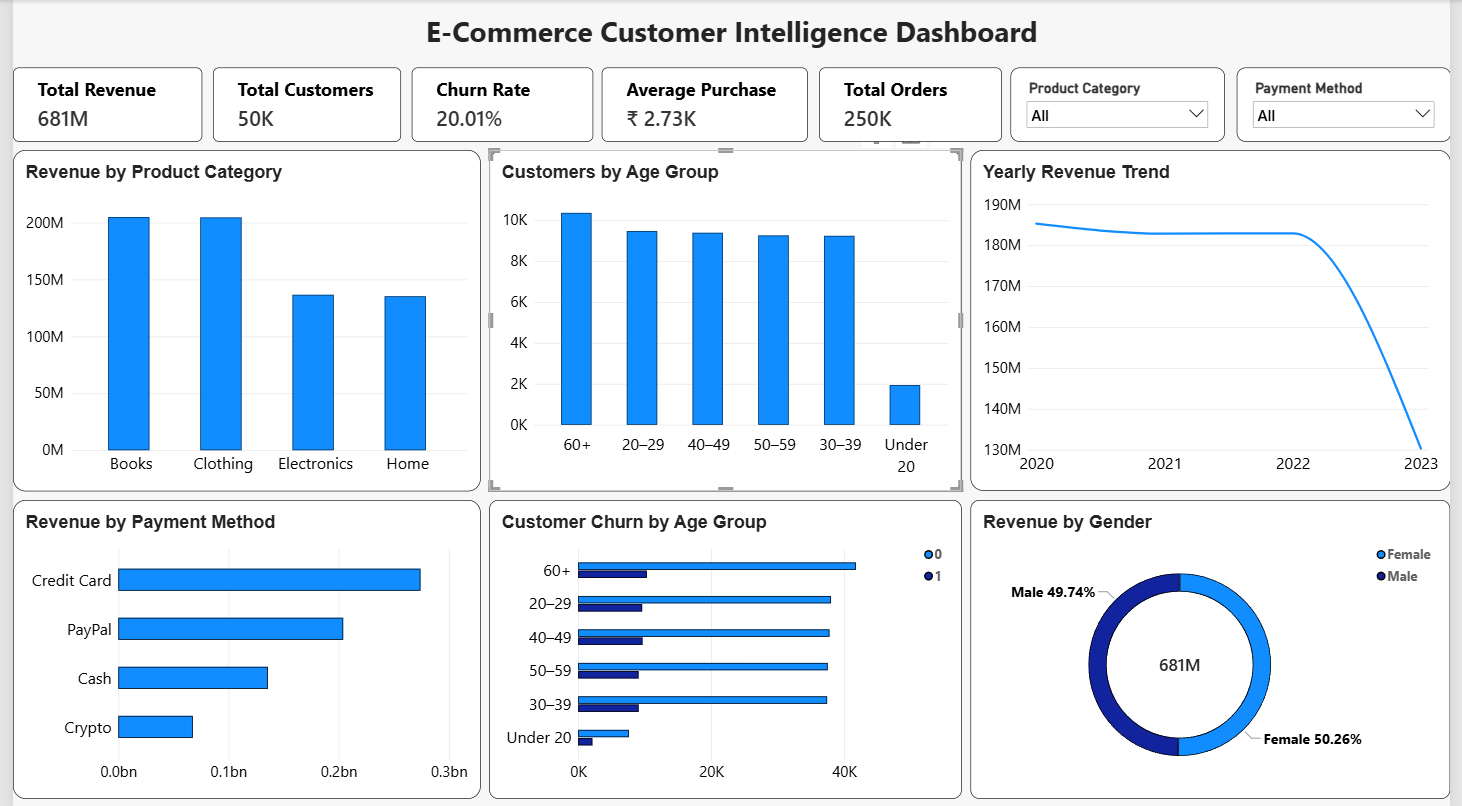

The page's visual inventory and layout, read from the dashboard file:
{"tool":"powerbi","page":{"name":"Page 1","canvas":[1920,1080],"ordinal":0},"visuals":[{"type":"cardVisual","fields":{"Data":["customer_segmentation.Total Revenue"]},"box":[0,90.7,252.9,99.4],"z":0},{"type":"cardVisual","fields":{"Data":["customer_segmentation.Total Customers"]},"box":[266.9,90.7,251.2,99.4],"z":1000},{"type":"cardVisual","fields":{"Data":["customer_segmentation.Average Purchase"]},"box":[786.6,90.7,275.6,99.4],"z":2000},{"type":"cardVisual","fields":{"Data":["customer_segmentation.Churn Rate"]},"box":[532,90.7,242.4,99.4],"z":3000},{"type":"clusteredColumnChart","title":"Revenue by Product Category","fields":{"Category":["cleaned_customer_data.Product Category"],"Y":["Sum(cleaned_customer_data.Total Purchase Amount)"]},"box":[0,200.4,624.5,455.8],"z":4000},{"type":"clusteredBarChart","title":"Revenue by Payment Method","fields":{"Category":["cleaned_customer_data.Payment Method"],"Y":["Sum(cleaned_customer_data.Total Purchase Amount)"]},"box":[0,667.9,624.5,399.1],"z":5000},{"type":"clusteredColumnChart","title":"Customers by Age Group","fields":{"Category":["cleaned_customer_data.Age Group"],"Y":["Count(cleaned_customer_data.Customer ID)"]},"box":[636.2,200.4,631.2,455.8],"z":6000},{"type":"clusteredBarChart","title":"Customer Churn by Age Group","fields":{"Category":["cleaned_customer_data.Age Group"],"Series":["cleaned_customer_data.Churn"],"Y":["CountNonNull(cleaned_customer_data.Customer ID)"]},"box":[636.2,667.9,631.2,399.1],"z":7000},{"type":"lineChart","title":"Yearly Revenue Trend","fields":{"Category":["cleaned_customer_data.Purchase Date.Variation.Date Hierarchy.Year","cleaned_customer_data.Purchase Date.Variation.Date Hierarchy.Month"],"Y":["Sum(cleaned_customer_data.Total Purchase Amount)"]},"box":[1278.5,200.6,641.9,455.2],"z":8000},{"type":"donutChart","title":"Revenue by Gender","fields":{"Category":["cleaned_customer_data.Gender"],"Y":["Sum(cleaned_customer_data.Total Purchase Amount)"]},"box":[1279,667.9,641.2,399.1],"z":9000},{"type":"textbox","box":[0,16.7,1920.2,51.8],"z":10000},{"type":"slicer","fields":{"Values":["cleaned_customer_data.Product Category"]},"box":[1332.6,90.7,286,99.4],"z":11000},{"type":"cardVisual","fields":{"Data":["customer_segmentation.Total Orders"]},"box":[1076.2,90.7,244.2,99.4],"z":12000},{"type":"slicer","fields":{"Values":["cleaned_customer_data.Payment Method"]},"box":[1634.3,90.7,286,99.4],"z":13000}]}

Visuals, with their boxes in screenshot pixels (x1, y1, x2, y2), scaled from the page's 1920x1080 canvas onto the 1462x806 screenshot:
cardVisual - customer_segmentation.Total Revenue: (left=0, top=68, right=193, bottom=142)
cardVisual - customer_segmentation.Total Customers: (left=203, top=68, right=395, bottom=142)
cardVisual - customer_segmentation.Average Purchase: (left=599, top=68, right=809, bottom=142)
cardVisual - customer_segmentation.Churn Rate: (left=405, top=68, right=590, bottom=142)
"Revenue by Product Category" clusteredColumnChart: (left=0, top=150, right=476, bottom=490)
"Revenue by Payment Method" clusteredBarChart: (left=0, top=498, right=476, bottom=796)
"Customers by Age Group" clusteredColumnChart: (left=484, top=150, right=965, bottom=490)
"Customer Churn by Age Group" clusteredBarChart: (left=484, top=498, right=965, bottom=796)
"Yearly Revenue Trend" lineChart: (left=974, top=150, right=1461, bottom=489)
"Revenue by Gender" donutChart: (left=974, top=498, right=1461, bottom=796)
textbox: (left=0, top=12, right=1461, bottom=51)
slicer - cleaned_customer_data.Product Category: (left=1015, top=68, right=1232, bottom=142)
cardVisual - customer_segmentation.Total Orders: (left=819, top=68, right=1005, bottom=142)
slicer - cleaned_customer_data.Payment Method: (left=1244, top=68, right=1461, bottom=142)
